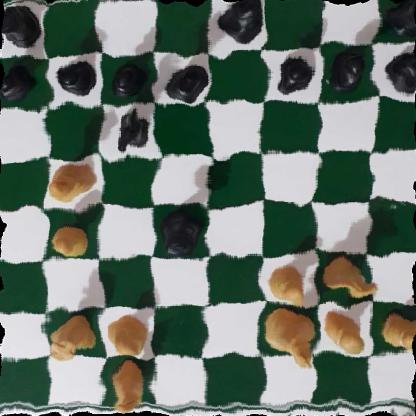black-bishop: (160, 57, 207, 102)
black-king: (214, 0, 264, 42)
black-knight: (112, 105, 157, 157)
black-pawn: (327, 47, 368, 91), (271, 51, 315, 91), (56, 56, 94, 95), (106, 61, 146, 95), (383, 50, 416, 91), (0, 63, 37, 99)
black-queen: (155, 207, 203, 255)
black-rook: (0, 0, 42, 50), (384, 0, 416, 36)
white-bishop: (108, 362, 152, 416), (41, 157, 95, 200)
white-king: (268, 302, 319, 369)
white-knight: (323, 255, 382, 299)
white-pawn: (320, 310, 365, 357), (109, 314, 149, 362), (268, 264, 310, 308), (47, 223, 91, 259), (379, 310, 416, 352)
white-rook: (44, 312, 97, 364)
